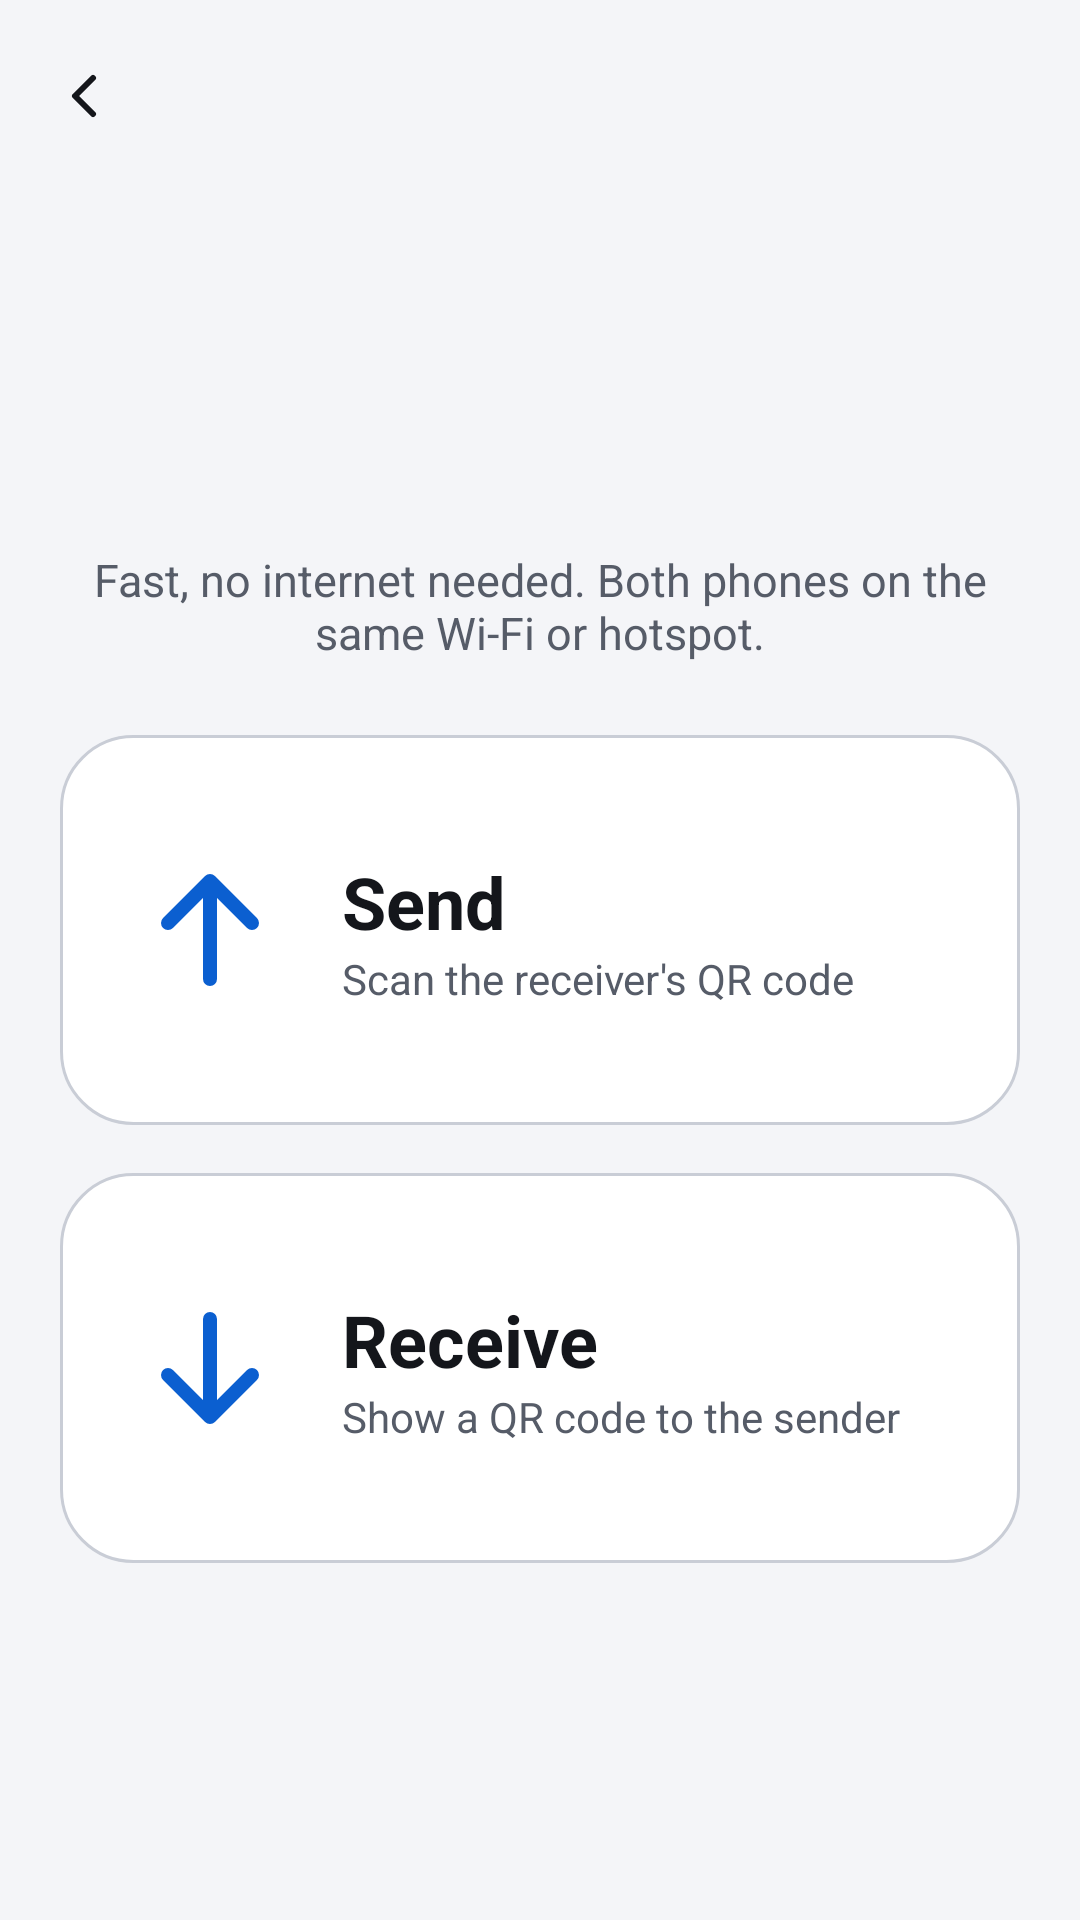

Screen size 1080 x 1920. Icon name, then its center in pixels as point (x, y):
recv down: point (210, 1368)
